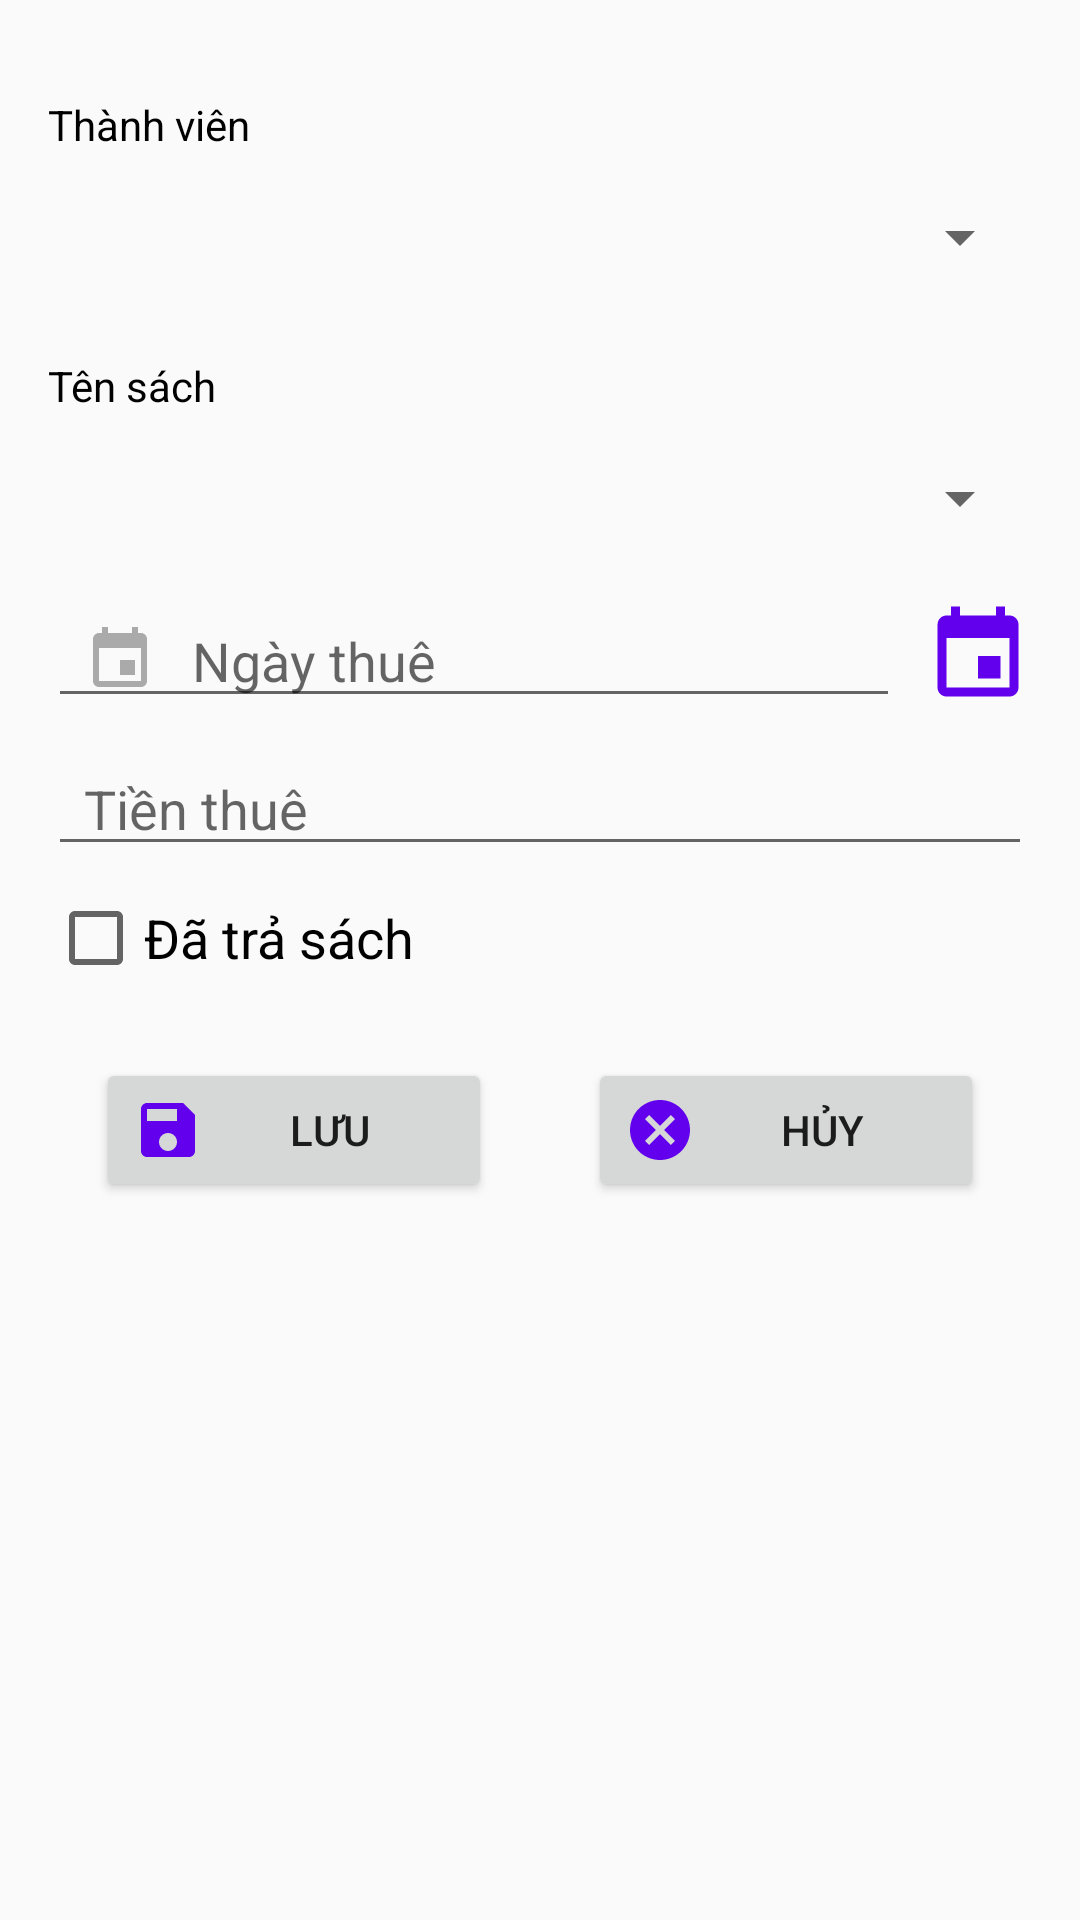

Named icons in this screenshot (1080*1920) and their bounding boxes, (x1, y1, x2, y2):
date: (937, 606, 1019, 697)
